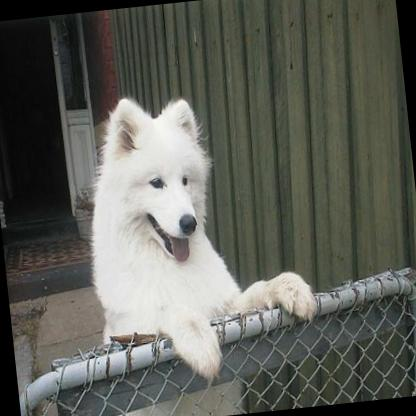Samoyed: (74, 78, 320, 384)
